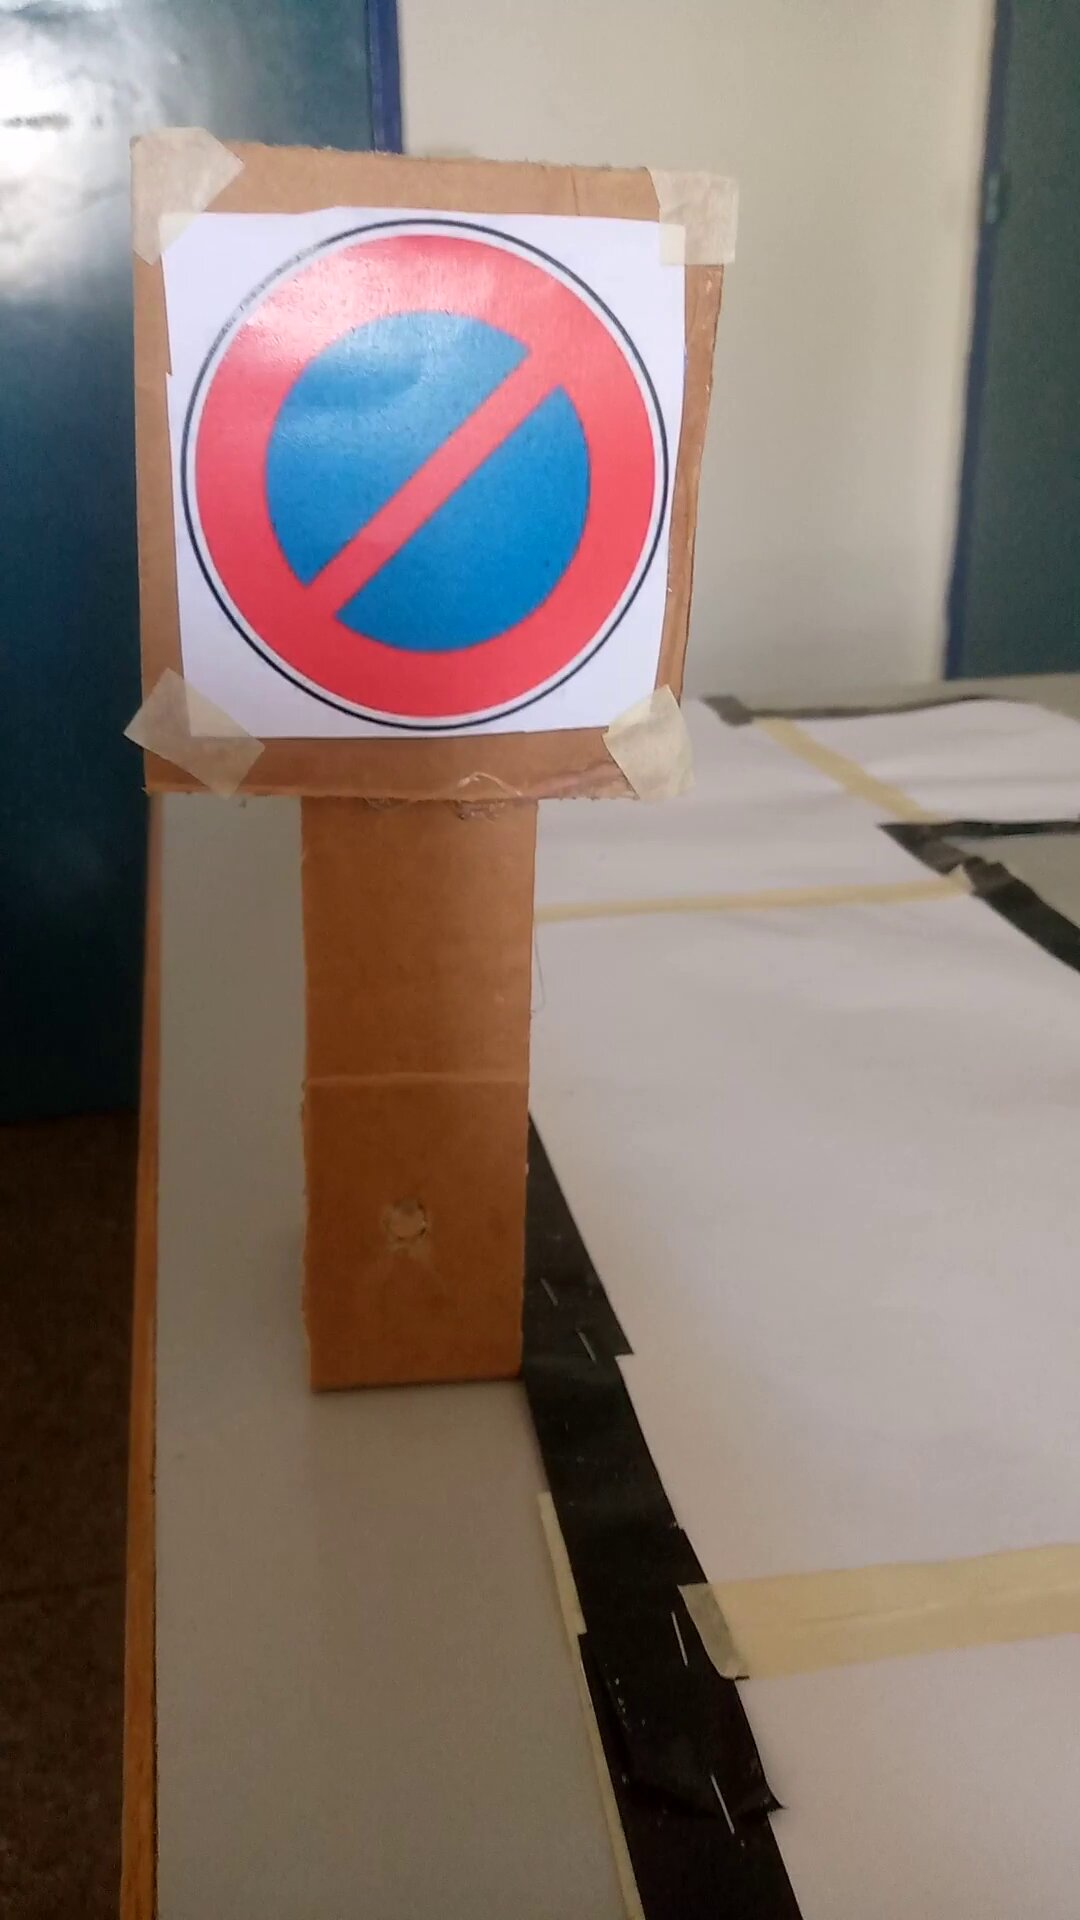panel110: (146, 200, 661, 757)
